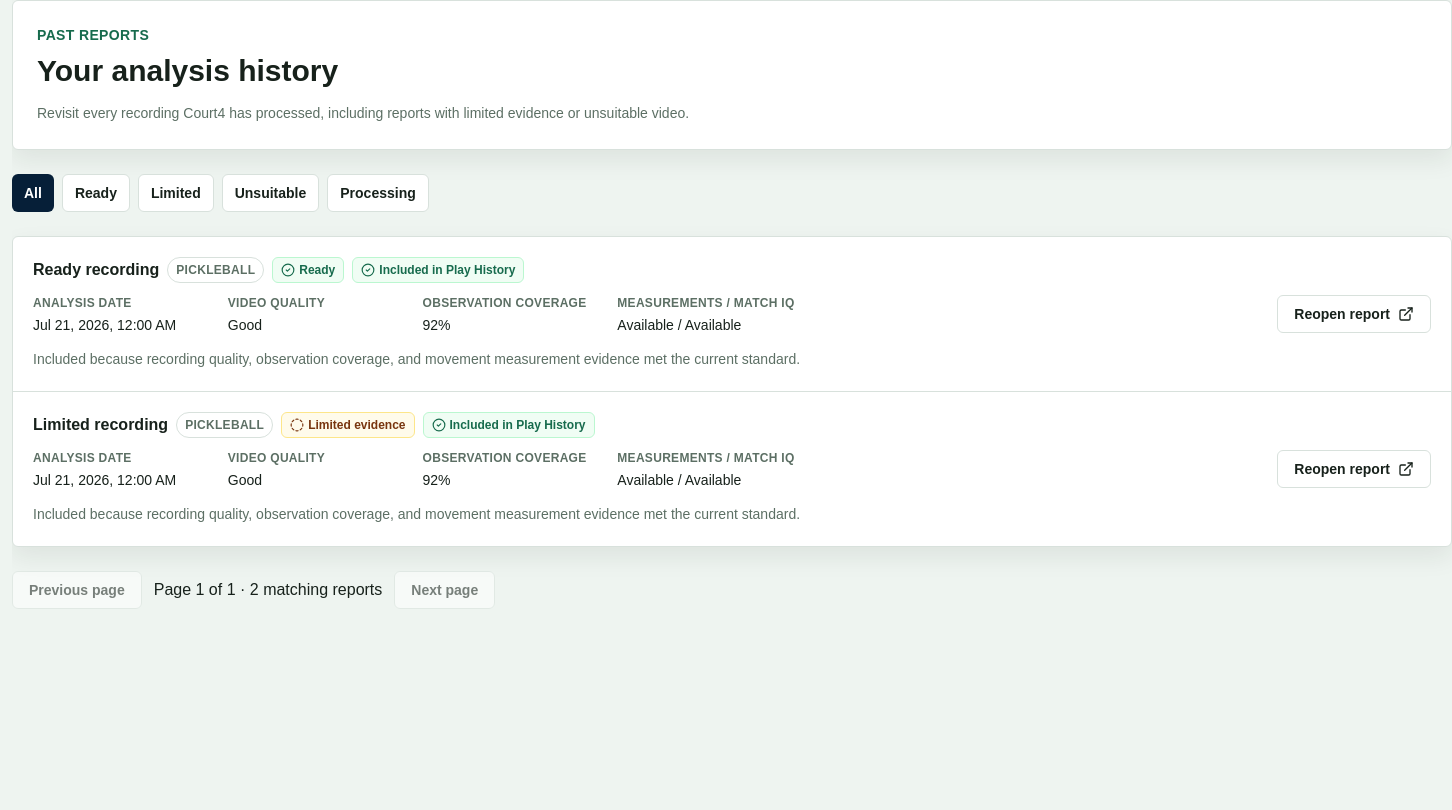
analysis history workspace › filters statuses without removing them from persisted history
Click the button "Limited" at (176, 193), box [138, 174, 214, 212]
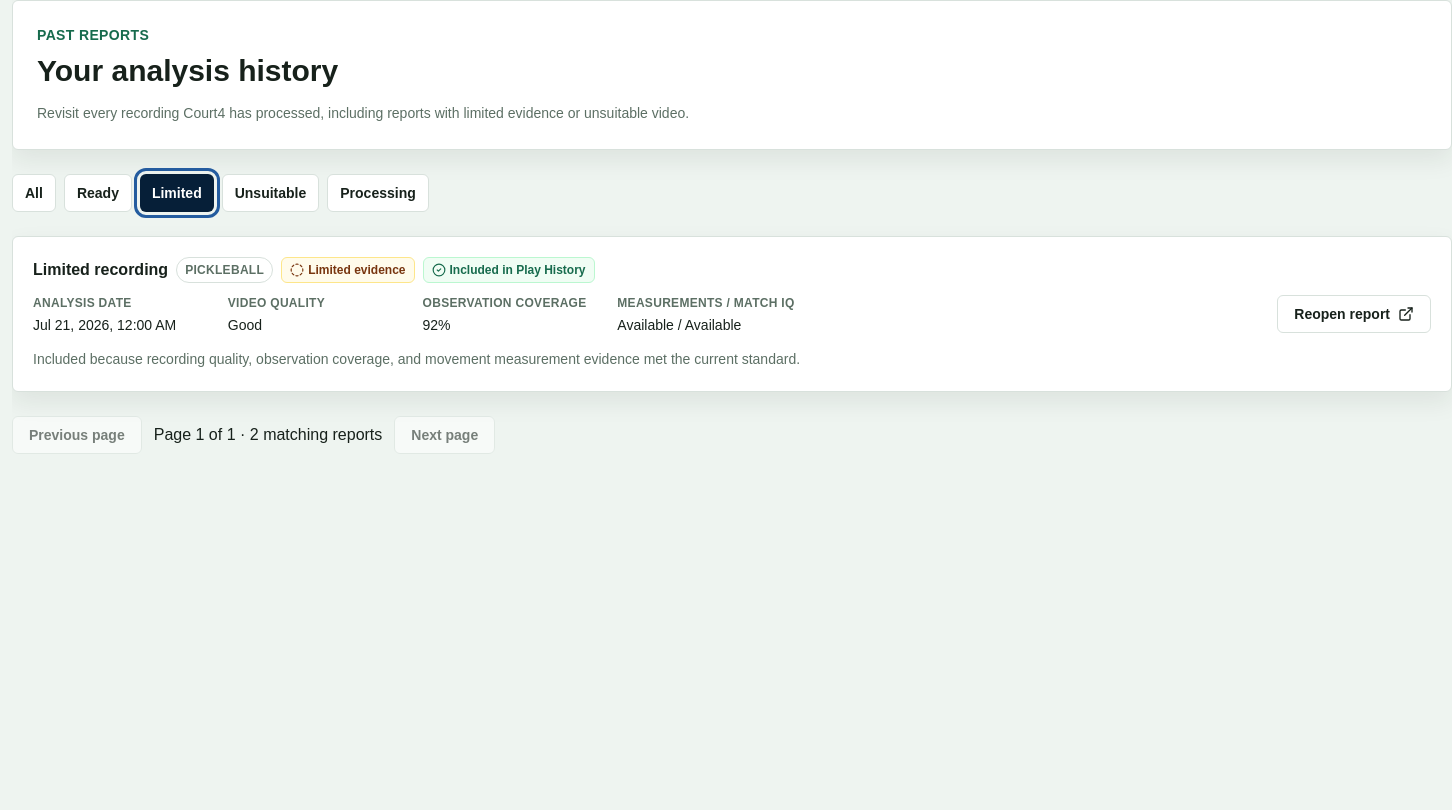
Expected: the heading "Limited recording" is shown, [33, 258, 168, 282]
Now the heading "Ready recording" is gone
